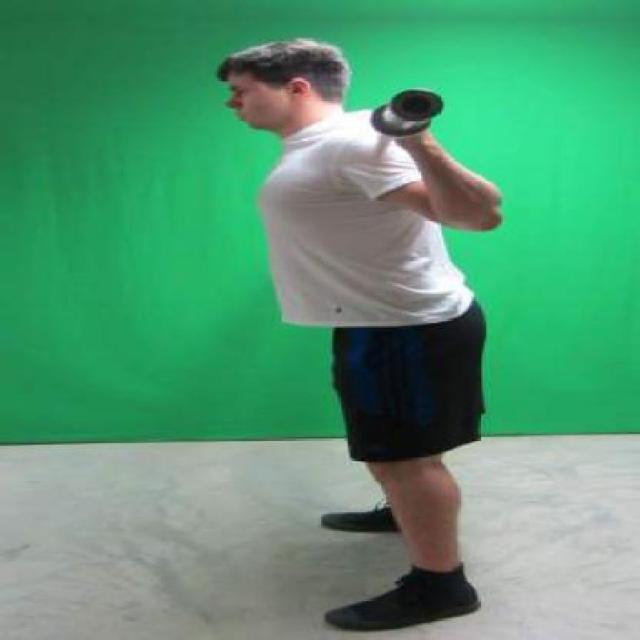barbell: (368, 82, 461, 143)
